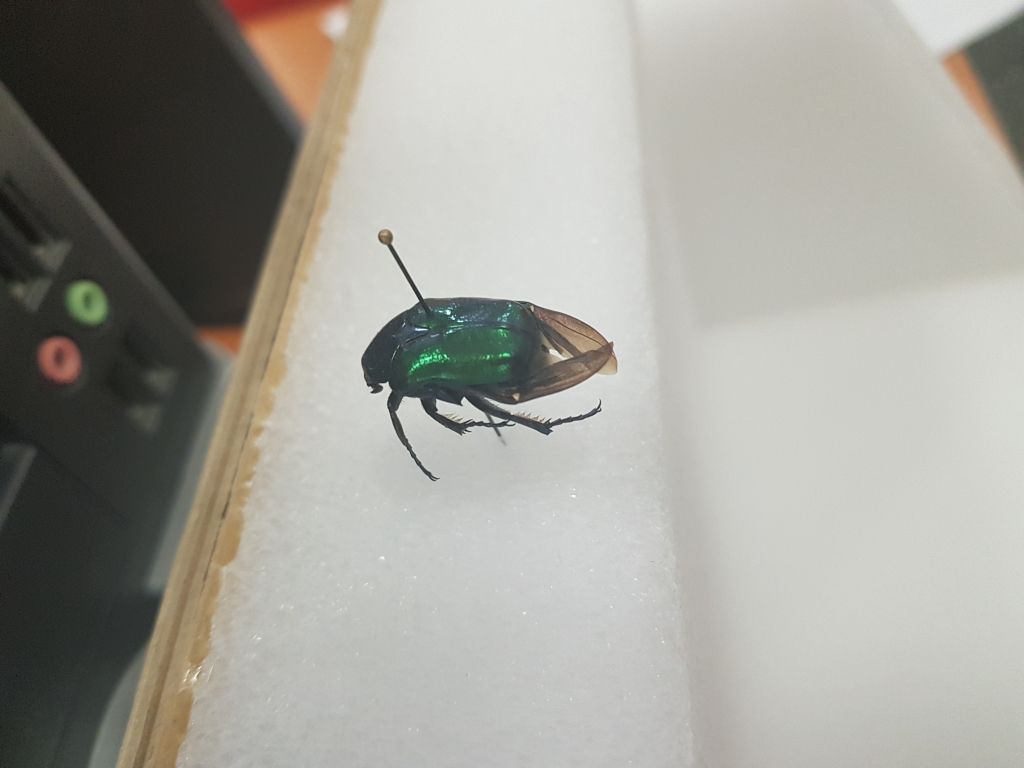Protaetia_angustata_angustata: (347, 288, 629, 483)
